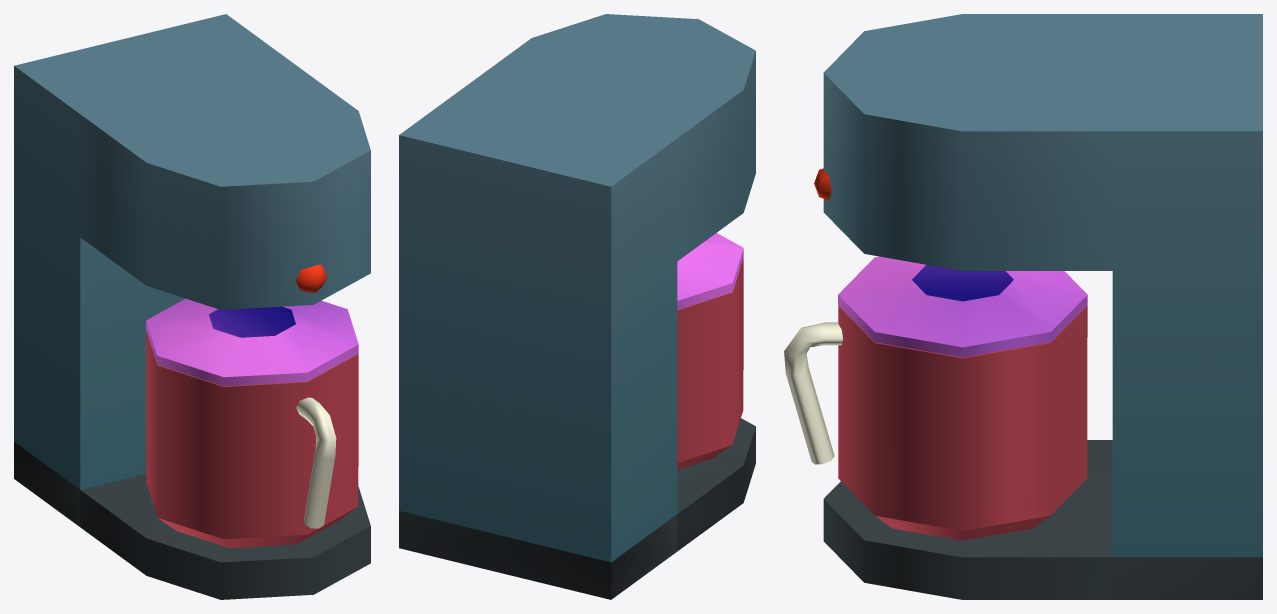
The model's file is Drink_Machine_lv3.fbx.
3 renders of one model, left to right at view 1: azimuth 30°, elevation 25°; view 2: azimuth 150°, elevation 25°; view 3: azimuth 270°, elevation 25°, orthographic. The views are drawn at different scales.
Parts seen in each view (by area): view 1: Drink_Machine_lv3; view 2: Drink_Machine_lv3; view 3: Drink_Machine_lv3.
Boxes of the visible parts, x1,y1,x2,y2 form: Drink_Machine_lv3: (14, 14, 370, 599); Drink_Machine_lv3: (399, 14, 755, 599); Drink_Machine_lv3: (784, 14, 1262, 599).
Bounding box in the file's own units: 70.29 × 131 × 121.
Materials: 1 (1 with a texture image).
